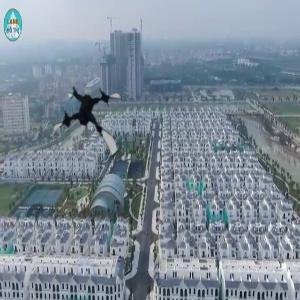drone: (50, 81, 134, 165)
